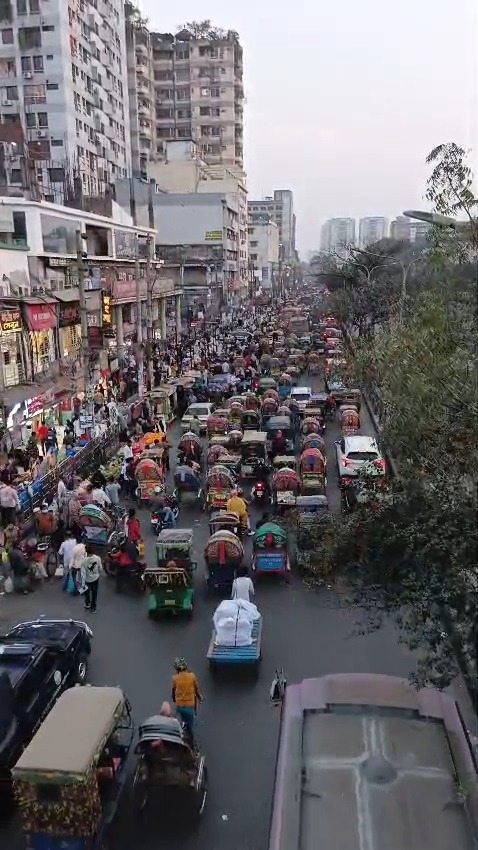auto-ricksaw: (131, 653, 212, 822), (144, 527, 197, 620), (252, 522, 293, 582), (76, 499, 125, 547), (203, 453, 241, 512), (135, 446, 169, 508), (300, 449, 329, 495), (336, 403, 364, 435)
cng: (265, 411, 297, 452)
private car: (0, 615, 95, 734), (334, 432, 388, 486)
